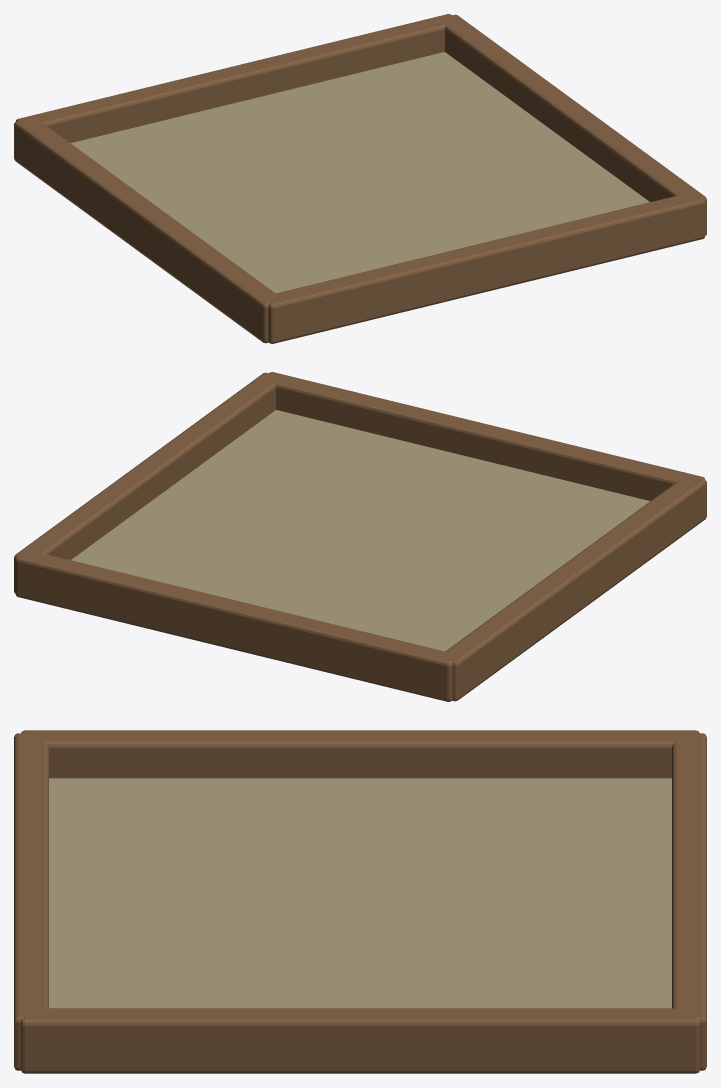
The model's file is SM_District_Sandpit.fbx.
3 renders of one model, top to bottom at view 1: azimuth 30°, elevation 25°; view 2: azimuth 150°, elevation 25°; view 3: azimuth 270°, elevation 25°, orthographic. The views are drawn at different scales.
Visible parts, largest first — view 1: SM_District_Sandpit; view 2: SM_District_Sandpit; view 3: SM_District_Sandpit.
Part boxes in pixels (bbox=[...]): SM_District_Sandpit: bbox=[14, 14, 706, 343]; SM_District_Sandpit: bbox=[14, 372, 706, 701]; SM_District_Sandpit: bbox=[14, 730, 706, 1073].
Size of the model in its own units: 316 by 316 by 29.5.
